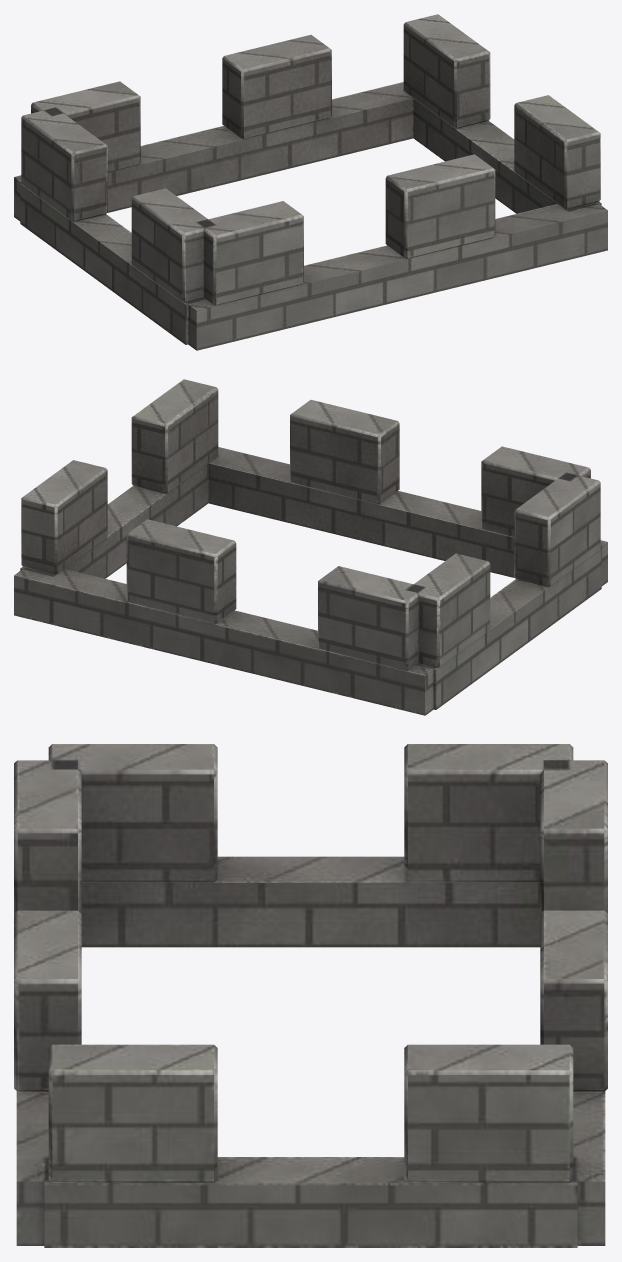
The model's file is ameias.glb.
The picture shows the model from 3 angles, top to bottom: view 1: azimuth 30°, elevation 25°; view 2: azimuth 150°, elevation 25°; view 3: azimuth 270°, elevation 25°; orthographic projection. The views are drawn at different scales.
Visible parts, largest first — view 1: ameias; view 2: ameias; view 3: ameias.
Boxes of the visible parts, <box> form: ameias: <box>14,14,607,350</box>; ameias: <box>14,379,607,715</box>; ameias: <box>14,744,607,1247</box>.
Bounding box in the file's own units: 4.38 × 1.1 × 3.34.
Materials: 1 (1 with a texture image).
